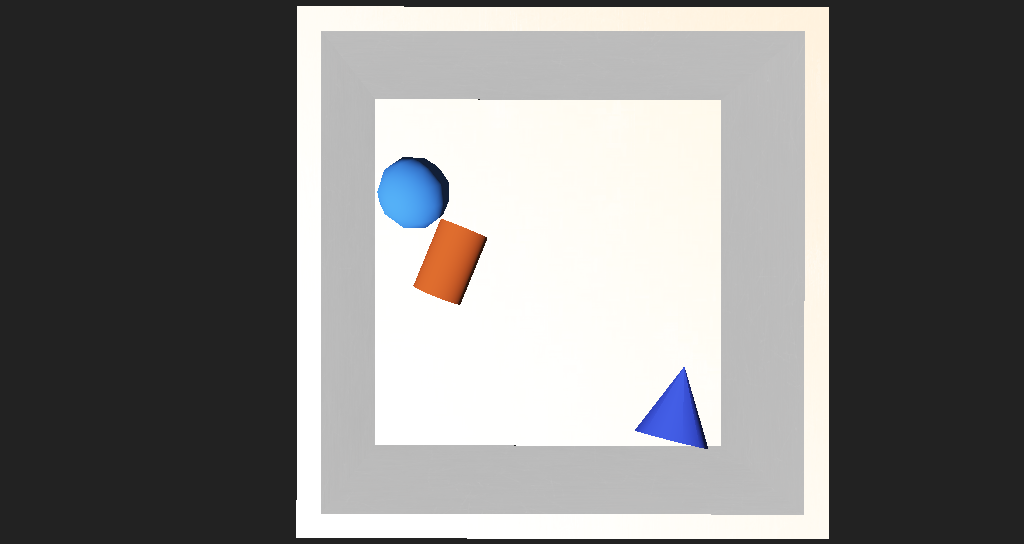cone: (384, 236, 451, 289)
cylinder: (576, 315, 664, 382)
sphere: (360, 196, 421, 243)
